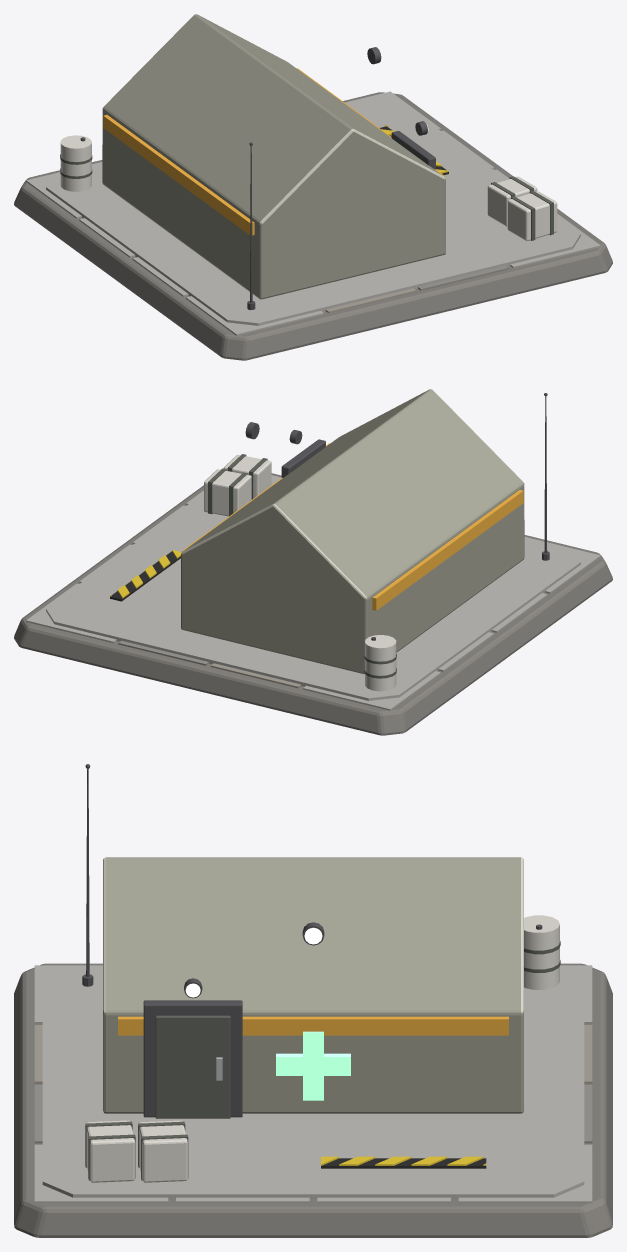
The model's file is field_hospital_orange.glb.
The picture shows the model from 3 angles, top to bottom: view 1: azimuth 30°, elevation 25°; view 2: azimuth 150°, elevation 25°; view 3: azimuth 270°, elevation 25°; orthographic projection. The views are drawn at different scales.
Visible parts, largest first — view 1: Body; view 2: Body; view 3: Body.
Boxes of the visible parts, x1,y1,x2,y2 form: Body: (14,14,612,360); Body: (14,389,612,735); Body: (14,764,612,1237).
Size of the model in its own units: 3.98 by 1.86 by 3.98.
Materials: 1 (1 with a texture image).
